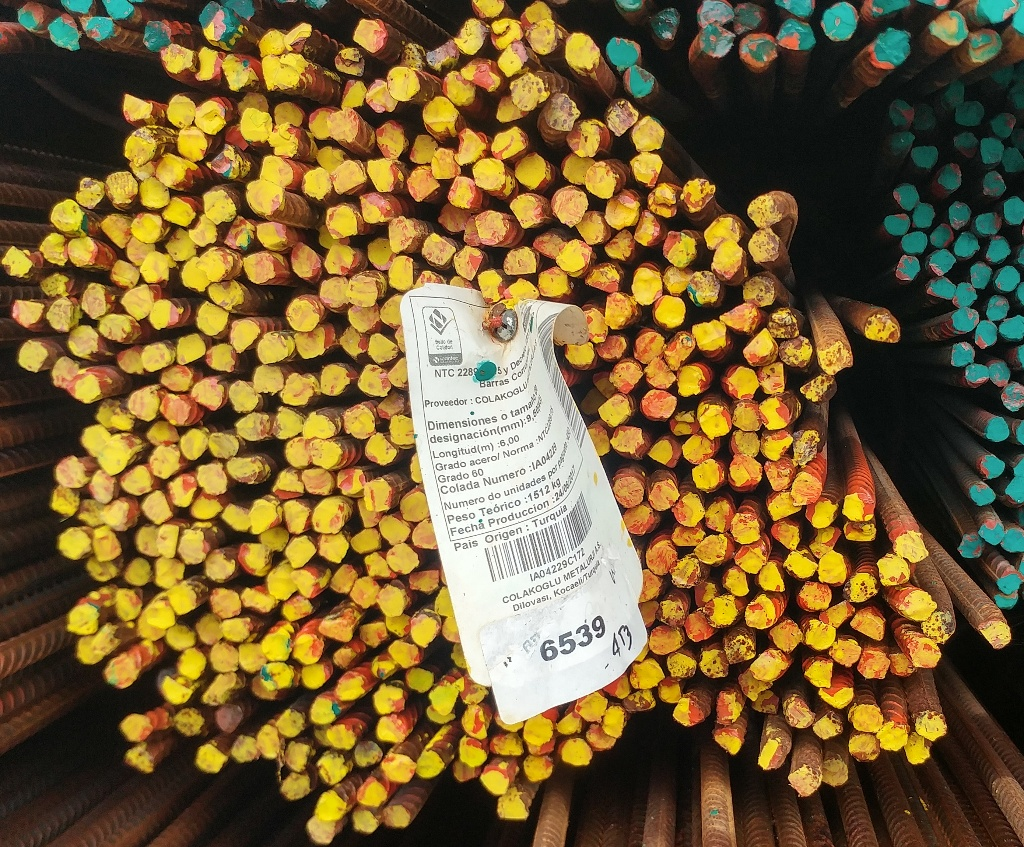dipstick: (209, 140, 257, 181), (740, 31, 783, 74), (245, 175, 288, 218), (870, 28, 913, 70), (695, 398, 740, 438), (700, 214, 747, 251), (627, 264, 669, 305), (146, 439, 190, 478), (741, 227, 787, 264), (745, 189, 785, 231), (924, 8, 970, 44), (628, 114, 669, 154), (551, 186, 590, 228), (695, 21, 740, 57), (820, 1, 859, 42), (199, 1, 238, 42), (115, 83, 157, 121), (287, 323, 330, 360), (718, 300, 764, 334), (679, 175, 719, 214), (964, 26, 1005, 64), (220, 51, 258, 92), (155, 149, 196, 187), (200, 672, 250, 703), (649, 293, 691, 329), (774, 16, 816, 52), (489, 125, 532, 160), (462, 56, 505, 91), (524, 710, 558, 754), (707, 240, 746, 278), (684, 269, 723, 307), (851, 601, 889, 640), (565, 118, 604, 156), (104, 166, 142, 205), (193, 297, 231, 336), (279, 370, 318, 408), (344, 401, 382, 440), (312, 494, 351, 532), (344, 270, 384, 307), (124, 383, 164, 420), (718, 629, 759, 665), (585, 159, 621, 200), (253, 327, 294, 363), (510, 73, 552, 108), (238, 542, 280, 577), (819, 339, 857, 377), (754, 734, 791, 773), (734, 539, 771, 578), (603, 99, 640, 138), (564, 32, 600, 72), (403, 165, 443, 201), (247, 493, 283, 533), (755, 396, 796, 431), (438, 71, 479, 106), (226, 454, 270, 486), (779, 695, 817, 732), (739, 668, 777, 705), (645, 538, 682, 576), (555, 238, 592, 276), (194, 458, 231, 496), (286, 295, 325, 331), (289, 242, 325, 281), (257, 153, 296, 189), (2, 243, 38, 282), (621, 64, 661, 99), (181, 524, 216, 564), (742, 326, 776, 367), (595, 393, 636, 427), (649, 4, 683, 45), (749, 649, 791, 682), (234, 409, 277, 441), (603, 192, 641, 228), (62, 599, 100, 635), (95, 438, 133, 474), (609, 357, 648, 392), (121, 124, 156, 163), (202, 546, 237, 585), (775, 332, 815, 366), (647, 436, 687, 470), (425, 36, 465, 70), (241, 249, 281, 283), (743, 591, 776, 632), (129, 211, 170, 244), (155, 671, 196, 704), (302, 408, 343, 441), (898, 589, 940, 621), (714, 684, 746, 726), (692, 532, 734, 564), (165, 468, 197, 510), (267, 559, 298, 602), (307, 439, 350, 470), (876, 551, 912, 588), (574, 207, 611, 243), (538, 261, 574, 298), (497, 41, 533, 78), (351, 15, 387, 52), (141, 16, 178, 52), (237, 106, 273, 143), (203, 185, 239, 222), (200, 244, 237, 280), (785, 762, 823, 797), (70, 369, 108, 404), (670, 490, 704, 529), (547, 94, 581, 133), (452, 17, 486, 56), (102, 655, 141, 689), (777, 547, 817, 580), (662, 330, 695, 370), (626, 153, 666, 186), (689, 460, 730, 492), (584, 263, 625, 295), (257, 660, 298, 692), (704, 495, 735, 537), (267, 467, 309, 498), (701, 593, 737, 629), (476, 210, 512, 246), (56, 527, 92, 563), (166, 581, 202, 617), (865, 307, 900, 344), (644, 184, 681, 219), (560, 149, 595, 186), (526, 18, 561, 55), (14, 337, 51, 372), (363, 431, 400, 466), (514, 151, 548, 189), (50, 197, 84, 235), (225, 377, 263, 411), (841, 491, 880, 524), (606, 36, 645, 69), (377, 119, 410, 158), (380, 750, 419, 783), (974, 618, 1014, 650), (187, 488, 227, 520), (914, 708, 949, 744), (99, 213, 134, 249), (161, 192, 196, 228), (164, 228, 200, 263), (141, 250, 177, 285), (161, 390, 197, 425), (111, 586, 146, 622), (420, 97, 457, 131), (421, 234, 458, 268), (731, 3, 769, 36), (190, 740, 228, 773), (239, 585, 277, 618), (274, 404, 307, 442), (613, 471, 645, 510), (178, 124, 210, 163), (178, 424, 210, 463), (791, 467, 822, 507), (642, 389, 682, 420), (122, 283, 153, 323), (921, 610, 956, 645), (386, 65, 421, 100), (429, 681, 464, 716), (696, 645, 732, 679), (328, 109, 362, 145), (299, 167, 335, 201), (367, 326, 401, 362), (249, 364, 285, 398), (280, 738, 316, 772), (558, 733, 592, 769), (661, 229, 698, 262), (360, 365, 393, 402), (289, 566, 326, 599), (92, 525, 125, 562), (158, 42, 196, 74), (333, 638, 371, 670), (194, 94, 225, 133), (208, 702, 247, 733), (799, 373, 839, 403), (386, 215, 416, 255), (725, 365, 759, 400), (805, 497, 839, 532), (729, 455, 764, 489), (328, 203, 362, 238), (496, 786, 531, 820), (133, 607, 168, 641), (759, 429, 795, 462), (797, 578, 833, 611), (728, 512, 764, 545), (631, 657, 667, 690), (509, 192, 542, 228), (366, 78, 399, 114), (318, 275, 351, 311), (48, 354, 81, 390), (373, 681, 409, 714), (374, 584, 410, 617), (153, 555, 186, 591), (740, 275, 777, 307), (256, 218, 293, 250), (120, 463, 157, 495), (907, 638, 945, 669), (843, 573, 881, 604), (609, 426, 647, 457), (308, 100, 339, 138), (229, 316, 260, 354), (316, 364, 354, 395), (650, 474, 680, 513), (408, 610, 438, 649), (765, 491, 805, 520), (665, 648, 699, 682), (770, 616, 804, 650), (45, 15, 79, 49), (205, 339, 239, 373), (681, 610, 714, 645), (670, 555, 703, 590), (74, 173, 107, 208), (576, 687, 609, 722), (315, 749, 350, 782), (387, 637, 422, 670), (173, 645, 208, 678), (362, 476, 395, 511), (893, 531, 929, 563), (820, 595, 856, 627), (632, 331, 668, 363), (531, 230, 567, 262), (367, 236, 399, 272), (166, 91, 198, 127), (649, 625, 686, 656), (604, 292, 635, 329), (360, 191, 397, 222), (223, 214, 254, 251), (456, 128, 486, 166), (46, 295, 76, 333), (817, 683, 859, 710), (688, 320, 727, 349), (490, 18, 529, 47), (673, 696, 707, 729), (602, 230, 636, 263), (473, 157, 507, 190), (336, 76, 370, 109), (332, 158, 365, 192), (324, 242, 357, 276), (188, 213, 222, 246), (173, 333, 207, 366), (460, 704, 494, 737), (456, 672, 489, 706), (191, 610, 224, 644), (503, 245, 538, 277), (269, 99, 304, 131), (293, 632, 328, 664), (684, 432, 720, 463), (141, 338, 172, 374), (236, 641, 272, 672), (207, 428, 243, 459), (695, 1, 736, 28), (314, 724, 362, 747), (766, 310, 804, 339), (208, 280, 246, 309), (120, 744, 159, 772), (757, 362, 790, 395), (439, 199, 472, 232), (209, 588, 242, 621), (763, 457, 795, 491), (876, 721, 910, 753), (368, 158, 400, 192), (52, 454, 84, 488), (357, 773, 391, 805), (308, 693, 342, 725), (332, 671, 366, 703), (303, 465, 337, 497), (140, 175, 171, 210), (338, 467, 373, 498), (668, 409, 704, 439), (284, 21, 314, 57), (828, 637, 865, 666), (454, 245, 483, 282), (276, 55, 305, 92), (791, 428, 819, 466), (634, 209, 662, 247), (195, 43, 223, 81), (804, 617, 837, 649), (858, 649, 890, 682), (673, 365, 706, 397), (79, 423, 111, 456), (314, 788, 347, 820), (768, 517, 802, 548), (626, 504, 660, 535), (732, 401, 763, 435), (267, 122, 298, 156), (193, 374, 224, 408), (263, 628, 294, 662), (387, 413, 418, 447), (100, 497, 134, 528), (165, 623, 204, 650), (144, 421, 183, 448), (281, 495, 308, 534), (846, 733, 881, 763), (579, 307, 609, 342), (80, 281, 110, 316), (175, 706, 210, 736), (350, 575, 380, 610), (40, 232, 69, 268), (362, 551, 398, 580), (316, 222, 353, 250), (258, 52, 285, 90), (319, 613, 357, 640), (711, 724, 743, 756), (479, 762, 511, 794), (417, 746, 447, 780), (375, 714, 409, 744), (849, 704, 884, 733), (386, 542, 421, 571), (643, 359, 679, 387), (96, 312, 138, 336), (158, 363, 194, 391), (84, 555, 126, 579), (254, 25, 286, 56), (148, 299, 179, 331), (277, 706, 308, 738), (306, 815, 338, 846), (523, 751, 555, 782), (398, 488, 429, 520), (904, 733, 934, 766), (810, 710, 843, 740), (819, 758, 852, 788), (657, 593, 690, 623), (819, 551, 848, 585), (596, 335, 631, 363), (380, 291, 407, 327), (235, 92, 271, 119), (339, 323, 366, 359), (41, 270, 77, 297), (66, 324, 97, 355), (285, 535, 316, 566), (670, 524, 710, 548), (93, 400, 125, 430), (490, 734, 530, 758), (380, 513, 412, 543), (806, 659, 839, 688), (496, 95, 529, 124), (328, 563, 357, 596), (146, 595, 175, 628), (476, 269, 504, 303), (280, 593, 316, 619), (433, 148, 464, 178), (349, 302, 380, 332), (109, 258, 140, 288), (12, 296, 43, 326), (47, 484, 77, 515), (955, 98, 987, 127), (120, 715, 152, 744), (319, 532, 351, 561), (280, 772, 313, 800), (411, 518, 439, 551), (661, 265, 695, 292), (135, 522, 162, 556), (501, 278, 539, 302), (603, 704, 629, 739), (927, 247, 957, 277), (114, 343, 144, 373), (760, 562, 789, 593), (66, 235, 95, 266), (77, 498, 108, 527), (890, 181, 922, 209), (82, 14, 114, 42), (377, 388, 405, 420), (909, 98, 936, 131), (448, 175, 475, 208), (400, 665, 433, 692), (89, 468, 116, 501), (407, 569, 442, 594), (521, 1, 559, 24), (157, 522, 180, 560), (221, 500, 250, 530), (144, 491, 174, 520), (978, 451, 1006, 482), (723, 565, 751, 596), (731, 427, 762, 455), (993, 261, 1021, 292), (886, 96, 914, 127), (460, 737, 488, 768), (586, 721, 617, 749), (353, 528, 384, 556), (967, 479, 999, 506), (387, 256, 414, 288), (126, 239, 158, 266), (991, 108, 1017, 141), (94, 621, 119, 655), (812, 527, 840, 557), (411, 133, 439, 163), (335, 47, 365, 75), (256, 720, 277, 760), (210, 643, 240, 671), (949, 306, 980, 333), (126, 155, 157, 182), (352, 806, 379, 837), (353, 740, 384, 767), (302, 659, 329, 690), (565, 342, 597, 368), (181, 256, 207, 288), (286, 436, 312, 468), (357, 493, 380, 529), (946, 341, 979, 366), (221, 617, 254, 642), (946, 199, 974, 228), (936, 77, 964, 106), (978, 515, 1005, 545), (656, 677, 686, 704), (967, 261, 994, 291), (909, 142, 939, 169), (603, 672, 634, 698), (624, 686, 659, 709), (749, 690, 781, 715), (450, 758, 482, 783), (469, 1, 511, 20), (423, 703, 461, 724), (937, 163, 965, 191), (126, 555, 154, 583), (889, 649, 916, 678), (930, 222, 959, 249), (978, 136, 1005, 165), (360, 622, 391, 647), (988, 235, 1012, 267), (988, 358, 1012, 390), (1000, 380, 1023, 413), (926, 274, 955, 300), (984, 417, 1013, 443), (318, 142, 347, 168), (986, 290, 1008, 324), (974, 316, 998, 347), (371, 651, 395, 682), (954, 231, 980, 259), (384, 801, 412, 827), (896, 253, 921, 282), (73, 633, 97, 663), (959, 532, 985, 559), (229, 733, 257, 758), (557, 710, 585, 735), (693, 580, 718, 607), (882, 214, 914, 235), (1000, 314, 1024, 342), (102, 1, 137, 20), (1002, 194, 1024, 224), (954, 282, 979, 308), (964, 363, 991, 387), (902, 230, 928, 254), (914, 201, 936, 229), (1004, 525, 1024, 554), (983, 170, 1006, 195), (886, 131, 916, 150), (1002, 145, 1023, 171), (953, 133, 981, 151)
